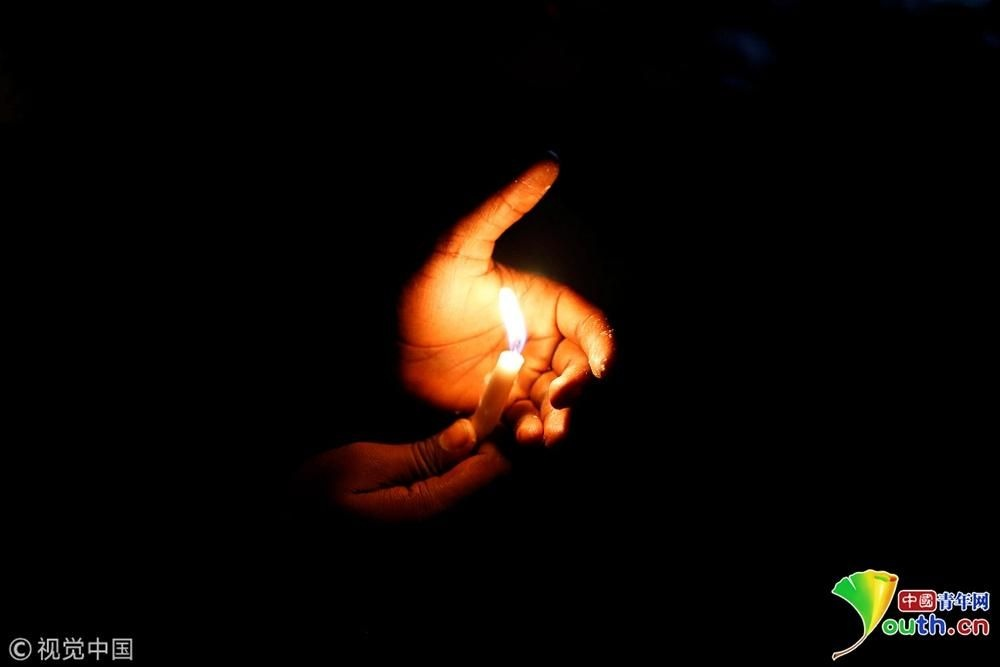fire: (492, 281, 531, 358)
